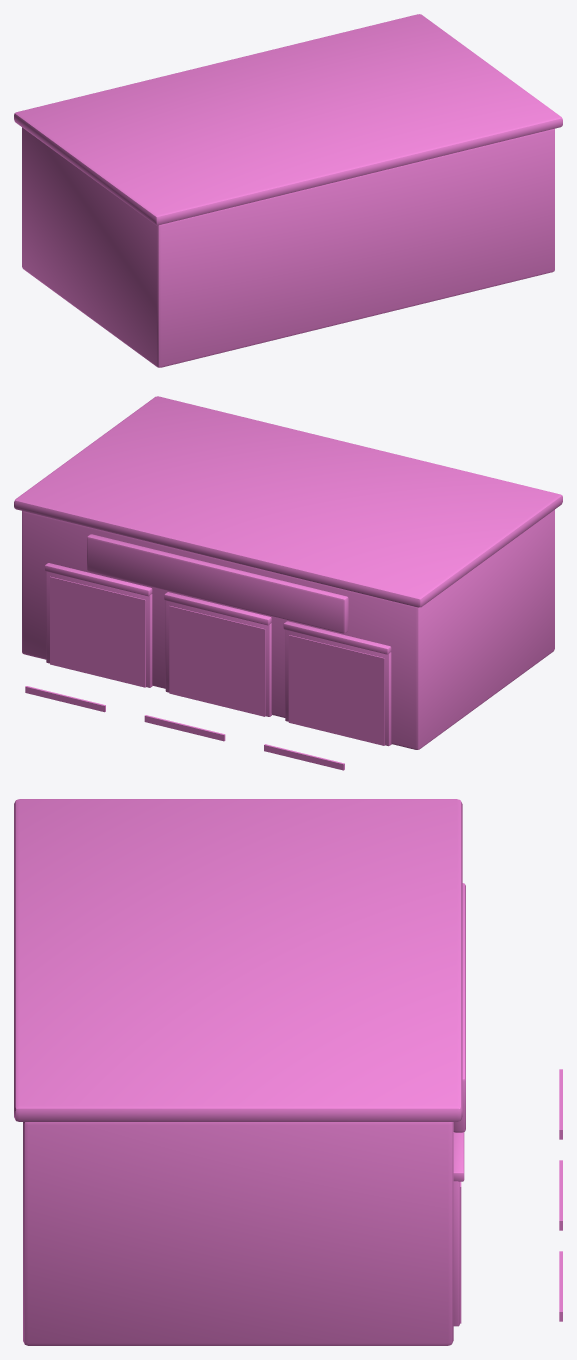
Rendered from Hub_Garage.fbx.
The picture shows the model from 3 angles, top to bottom: view 1: azimuth 30°, elevation 25°; view 2: azimuth 150°, elevation 25°; view 3: azimuth 270°, elevation 25°; orthographic projection. The views are drawn at different scales.
Visible parts, largest first — view 1: Paint, Body; view 2: Body, Paint; view 3: Body, Paint.
Boxes of the visible parts, left/top/right/bottom form: Paint: left=22, top=127, right=554, bottom=367; Body: left=14, top=14, right=562, bottom=225; Body: left=14, top=396, right=562, bottom=770; Paint: left=22, top=510, right=554, bottom=749; Body: left=14, top=799, right=562, bottom=1326; Paint: left=23, top=1122, right=453, bottom=1345.
Bounding box in the file's own units: 41 × 15.25 × 30.6.
1 material, 1 textured.
